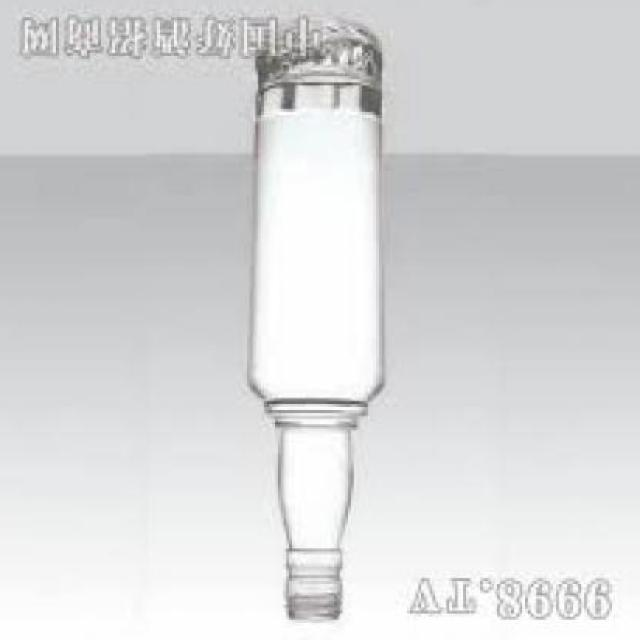kaca: (252, 46, 384, 626)
